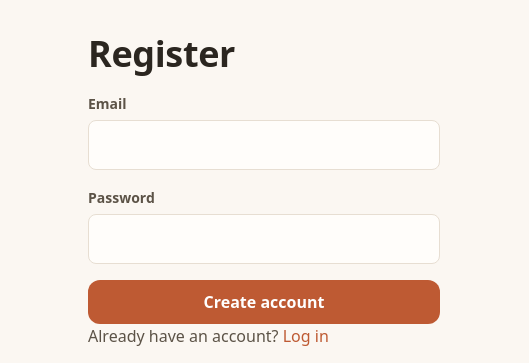
auth route guard + session › register stores the token and returns to ?next
Type "finder@example.com" into the field labelled "Email".
click(264, 145); type("finder@example.com")  # box [88, 120, 440, 170]
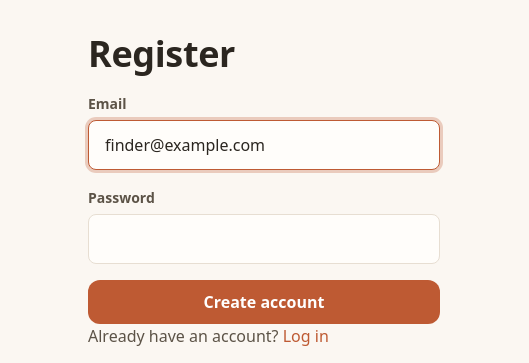
Type "password123" into the password field labelled "Password".
click(264, 239); type("password123")  # box [88, 214, 440, 264]
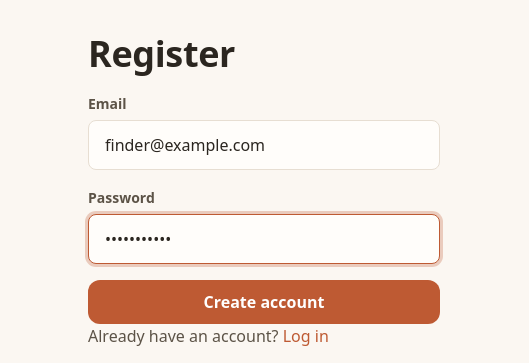
Click the button "Create account".
click(264, 302)  # box [88, 280, 440, 324]
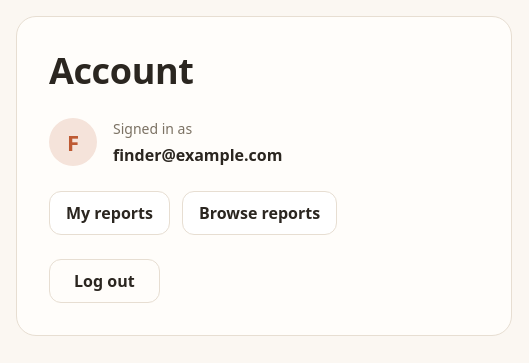
Expected: the text "finder@example.com" is shown, [113, 143, 282, 167]
